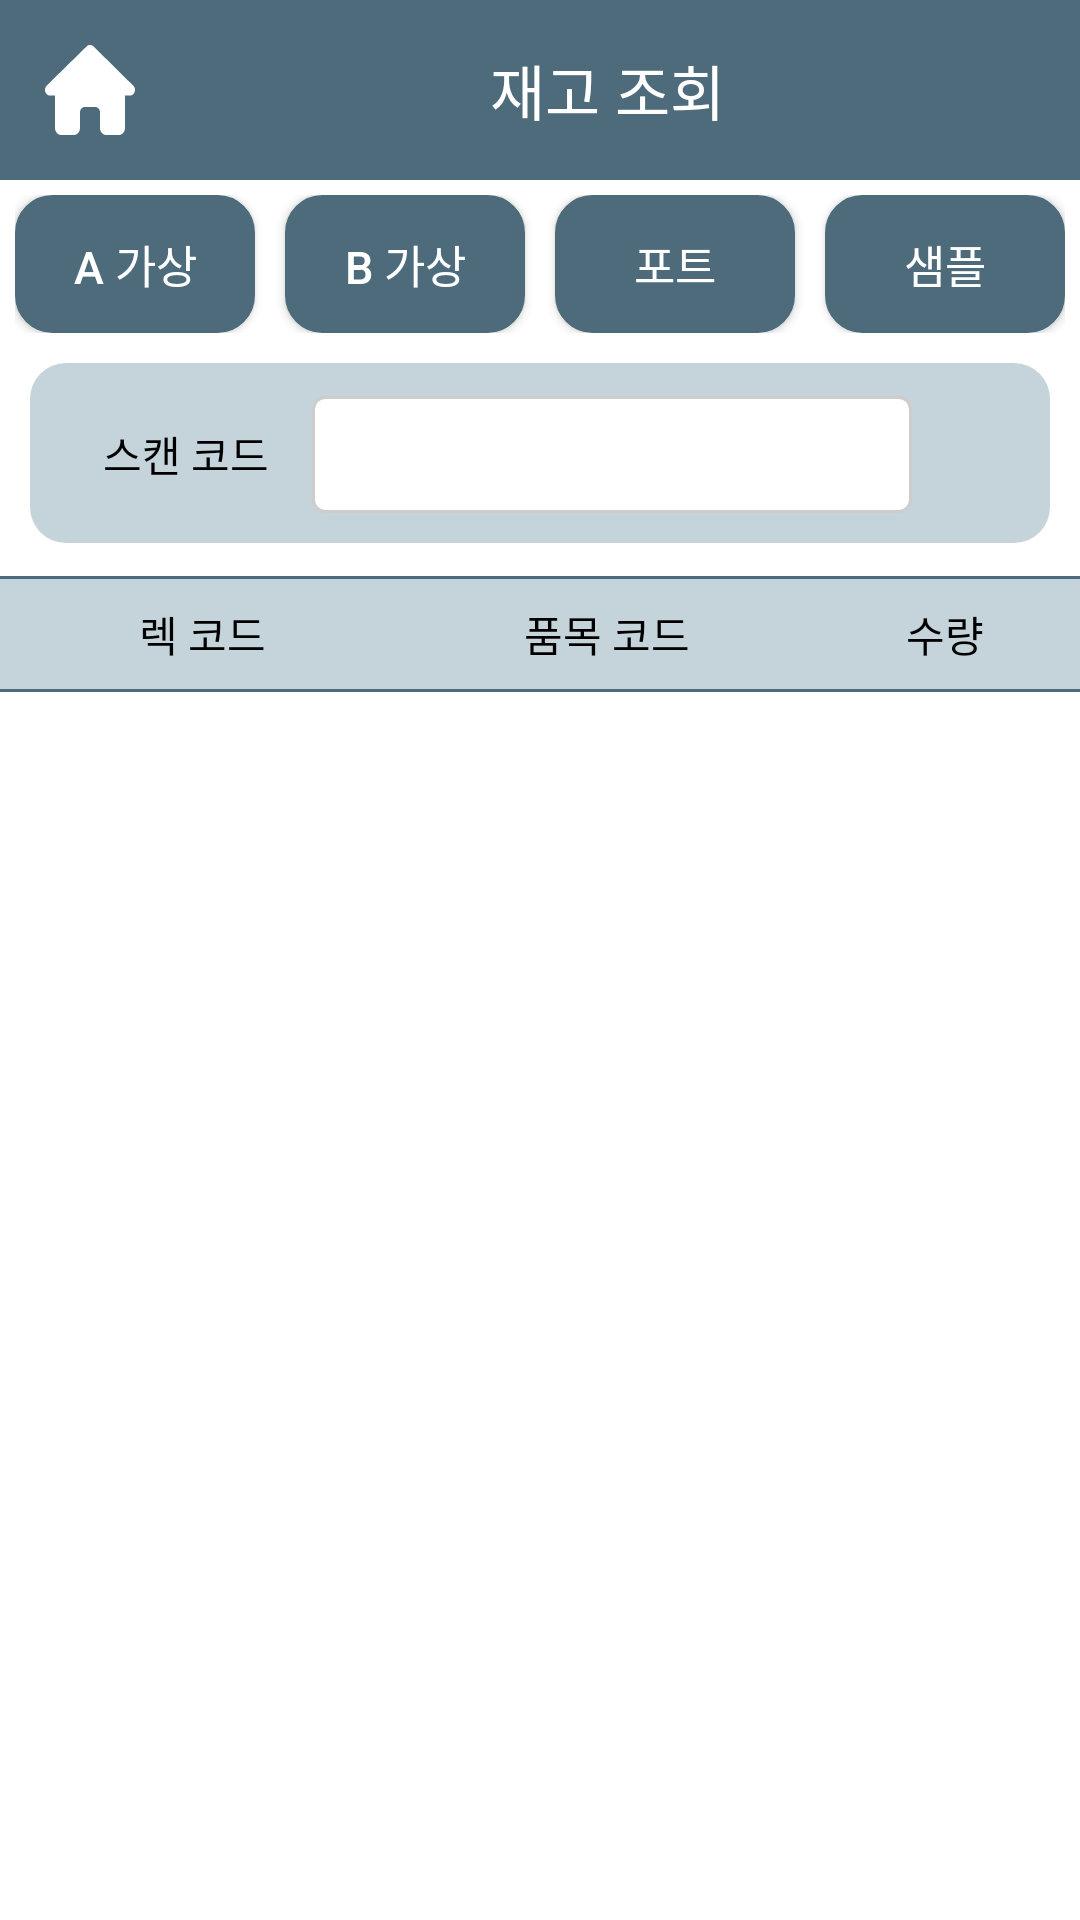

Screen size 1080 x 1920. Icon name, then its center in pixels as point (x, y):
house: point (90, 90)
